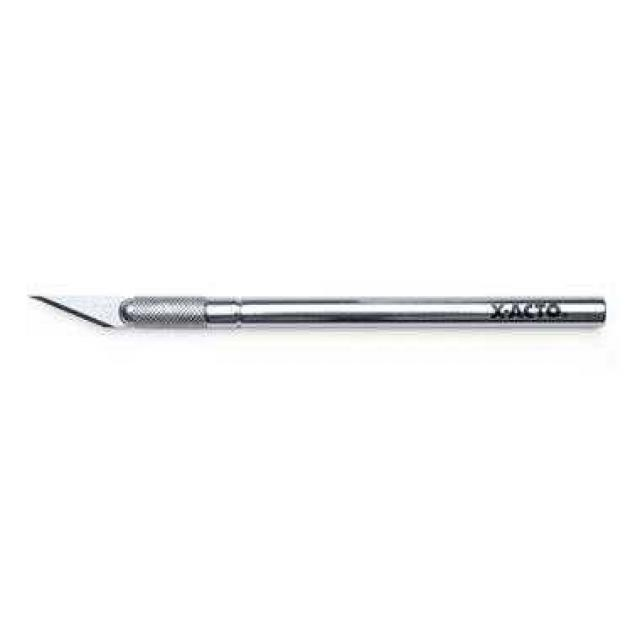knife: (25, 283, 610, 347)
